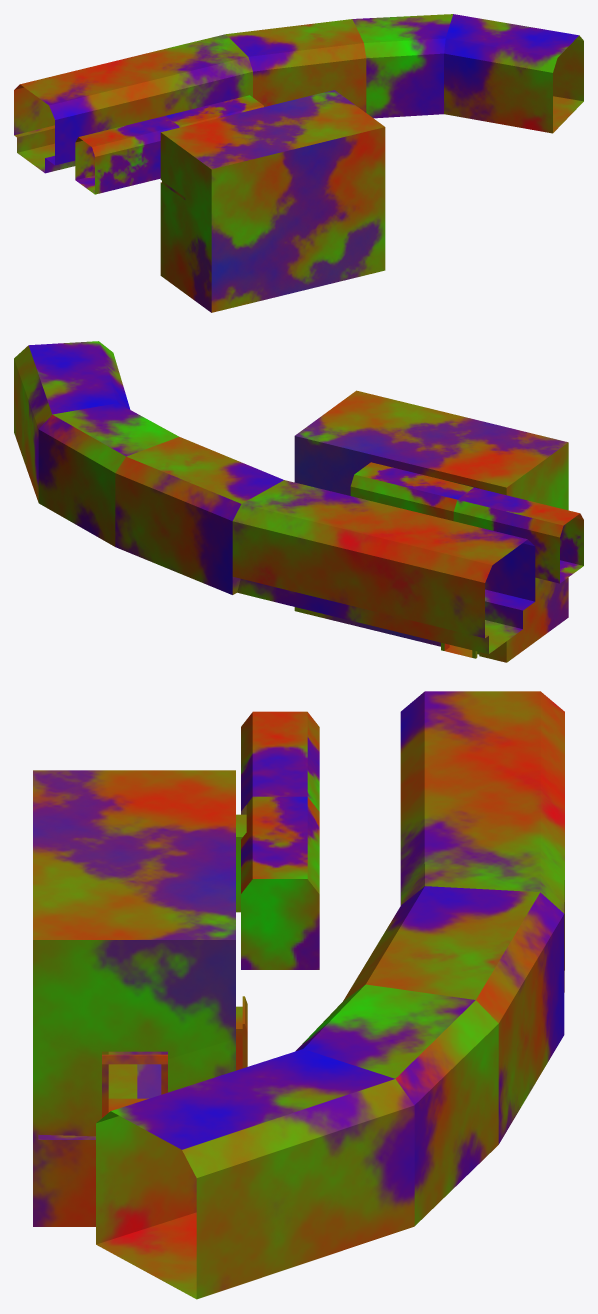
The model's file is Room.fbx.
The picture shows the model from 3 angles, top to bottom: view 1: azimuth 30°, elevation 25°; view 2: azimuth 150°, elevation 25°; view 3: azimuth 270°, elevation 25°; orthographic projection. The views are drawn at different scales.
Visible parts, largest first — view 1: Rail, StairWell, Walls; view 2: Rail, StairWell, Walls; view 3: Rail, StairWell, Walls.
Boxes of the visible parts, x1,y1,x2,y2 form: Rail: [14, 14, 583, 173]; StairWell: [160, 90, 385, 312]; Walls: [75, 95, 263, 194]; Rail: [14, 341, 535, 654]; StairWell: [294, 390, 568, 662]; Walls: [350, 462, 583, 583]; Rail: [96, 691, 564, 1299]; StairWell: [33, 770, 247, 1226]; Walls: [241, 711, 319, 969].
Size of the model in its own units: 44.55 by 13.49 by 21.47.
Materials: 3 (3 with a texture image).
